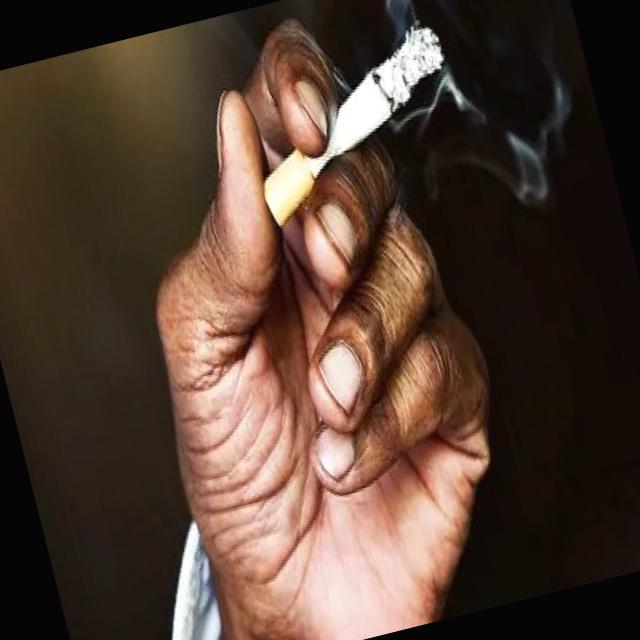cigarette: (231, 18, 481, 235)
